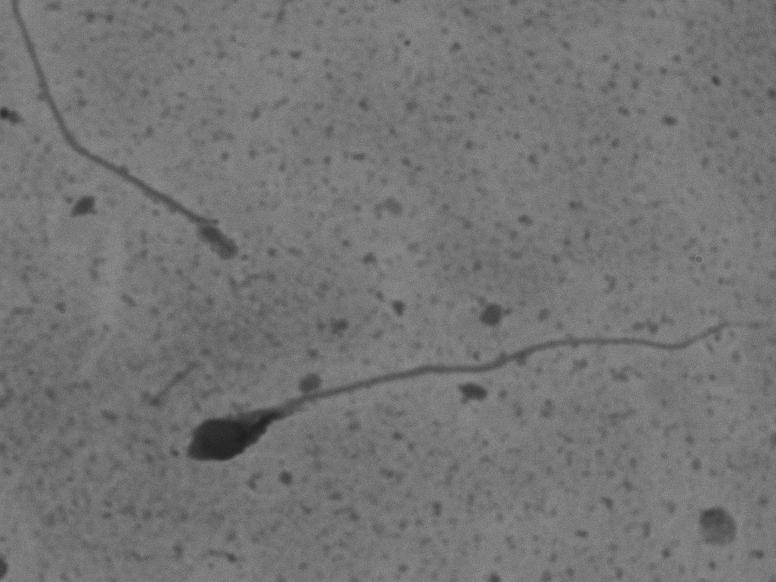Abnormal: (158, 273, 750, 501), (16, 38, 272, 281)
